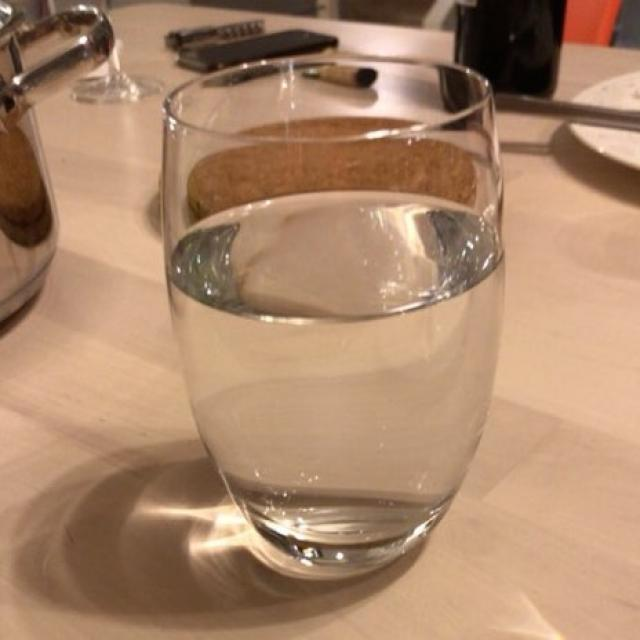water: (176, 151, 496, 537)
